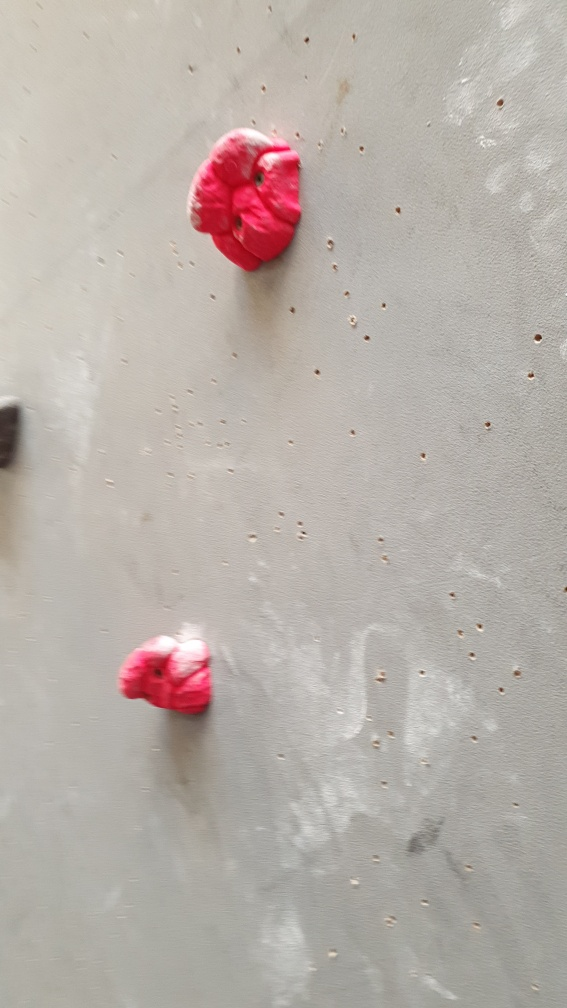Jug: (186, 123, 306, 276), (119, 625, 213, 721)
